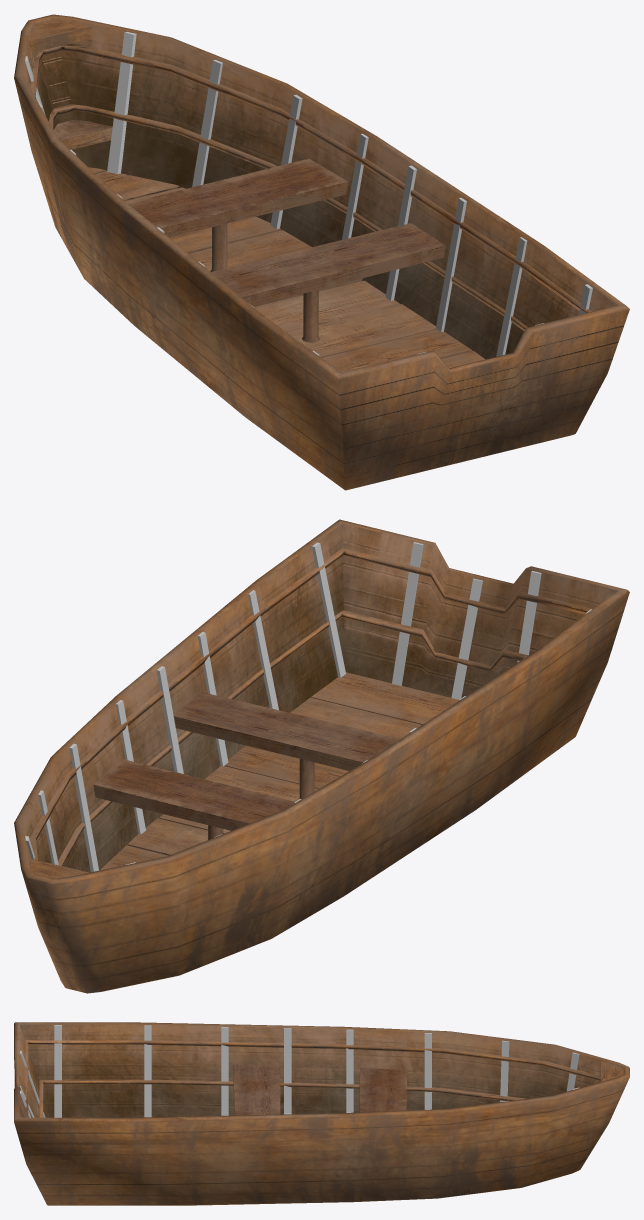
The picture shows the model from 3 angles, top to bottom: view 1: azimuth 30°, elevation 25°; view 2: azimuth 150°, elevation 25°; view 3: azimuth 270°, elevation 25°; orthographic projection. The views are drawn at different scales.
Visible parts, largest first — view 1: SM_Wooden_Boat_1_JFG; view 2: SM_Wooden_Boat_1_JFG; view 3: SM_Wooden_Boat_1_JFG.
Boxes of the visible parts, x1,y1,x2,y2 form: SM_Wooden_Boat_1_JFG: (14, 14, 629, 490); SM_Wooden_Boat_1_JFG: (14, 519, 629, 993); SM_Wooden_Boat_1_JFG: (14, 1022, 629, 1205).
Bounding box in the file's own units: 1.44 × 0.6583 × 3.81.
